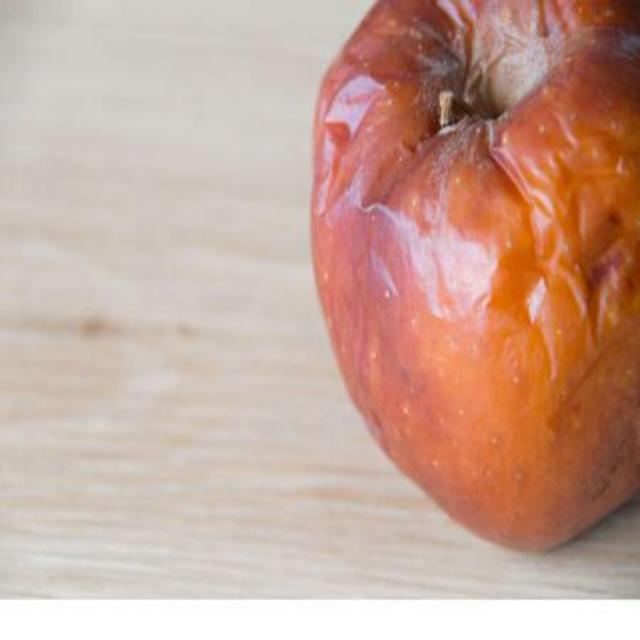Rotten Apple: (301, 1, 640, 584)
